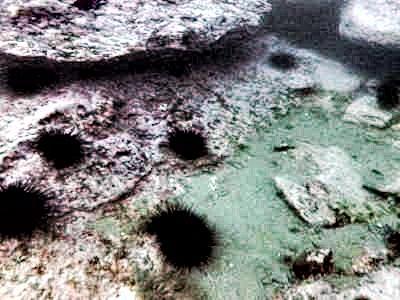urchin: (148, 201, 214, 270), (3, 179, 59, 243), (37, 126, 83, 165), (0, 66, 55, 98), (167, 126, 207, 158), (270, 49, 299, 70)
